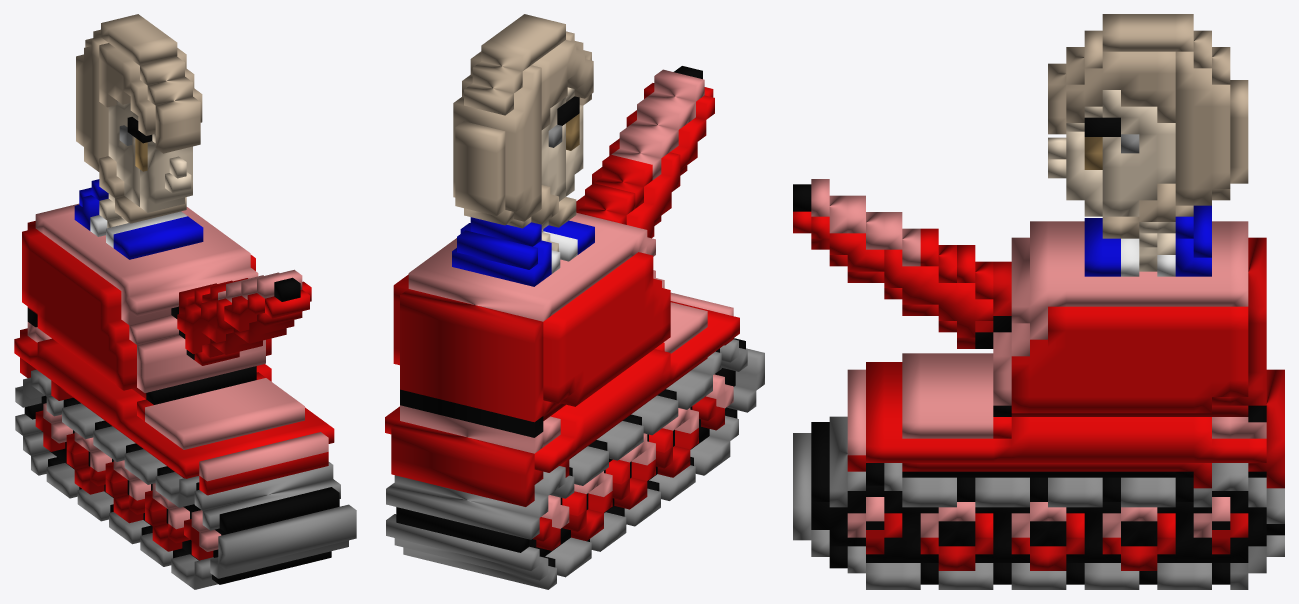
The model's file is tank.fbx.
The picture shows the model from 3 angles, left to right: view 1: azimuth 30°, elevation 25°; view 2: azimuth 150°, elevation 25°; view 3: azimuth 270°, elevation 25°; orthographic projection. The views are drawn at different scales.
Visible parts, largest first — view 1: tank; view 2: tank; view 3: tank.
Boxes of the visible parts, left/top/right/bottom form: tank: left=14, top=14, right=356, bottom=589; tank: left=385, top=14, right=764, bottom=589; tank: left=793, top=14, right=1284, bottom=589.
Bounding box in the file's own units: 0.5478 × 1.6 × 1.35.
